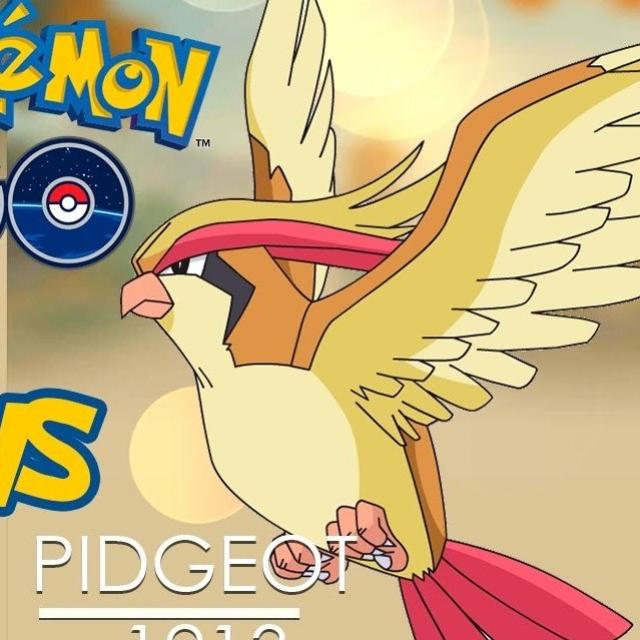Pidgeot: (121, 163, 540, 600)
